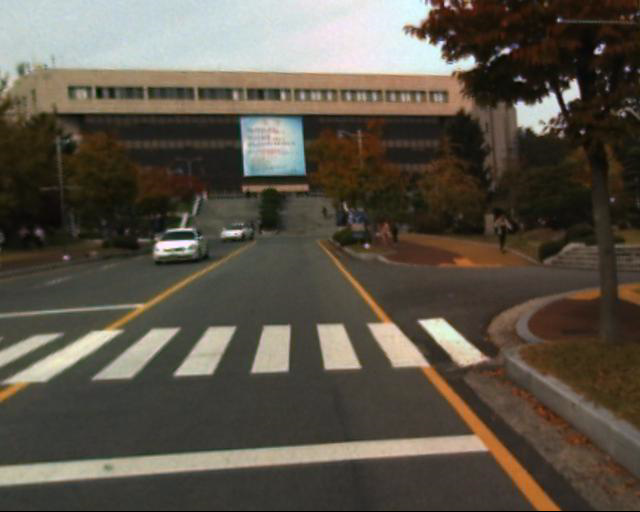person: (495, 215, 515, 256)
